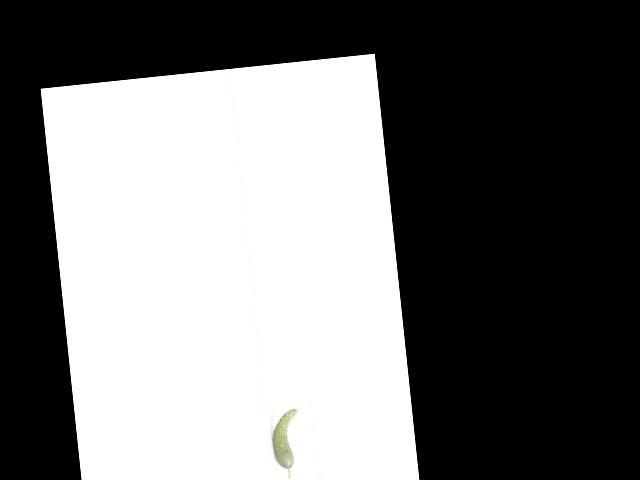cucumber: (269, 409, 304, 480)
